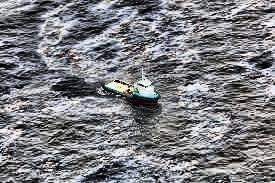sheen: (0, 80, 136, 182), (40, 12, 184, 80)
